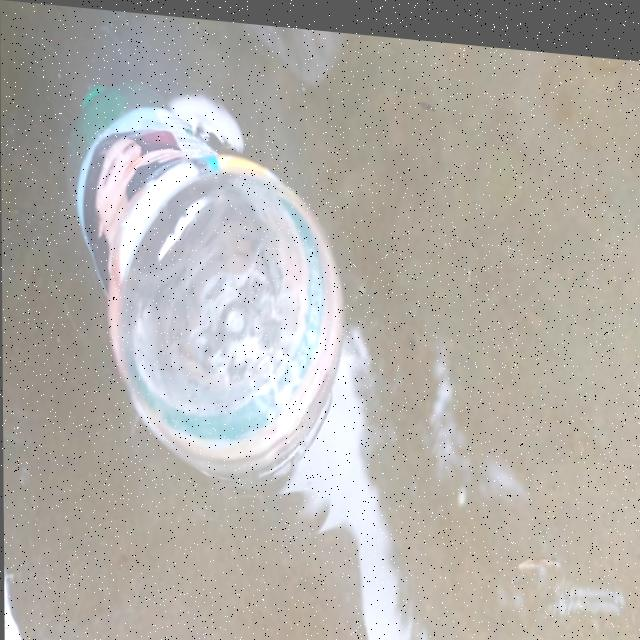waterbottle: (31, 67, 353, 489)
